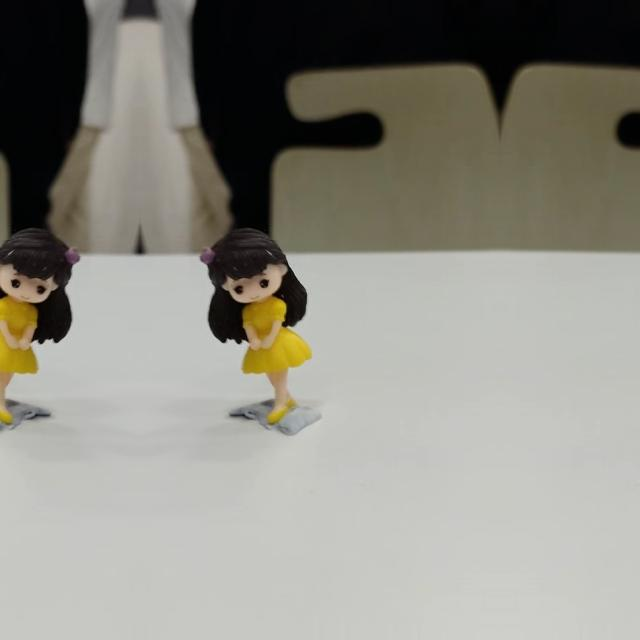woman head: (195, 223, 291, 305), (0, 223, 85, 305)
